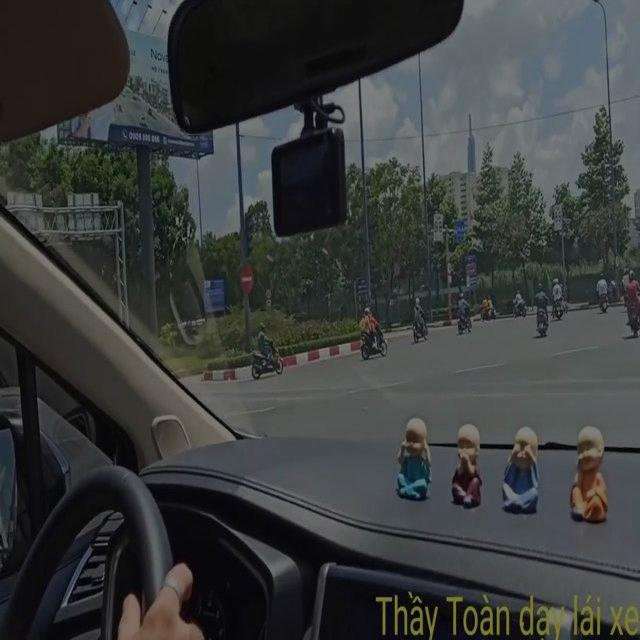Cấm các phương tiện hoạt động trong khung giờ cố định: (432, 205, 445, 246), (550, 200, 563, 228)
Cấm dừng - Cấm đỗ: (390, 258, 398, 273)
Cấm xe máy: (446, 259, 453, 273)
Cấm đi ngược chiều: (239, 262, 255, 294)
Khác: (200, 273, 226, 314), (464, 254, 479, 289), (355, 273, 371, 298)
Làn đường cho từng xe: (451, 219, 466, 242)
